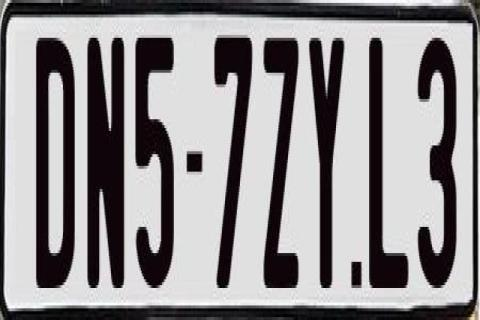0: (132, 32, 176, 294), (212, 35, 253, 285), (419, 38, 456, 294)
D: (36, 35, 81, 288)
L: (368, 32, 410, 282)
N: (86, 29, 126, 279)
Y: (307, 32, 345, 294)
Z: (263, 35, 303, 291)
